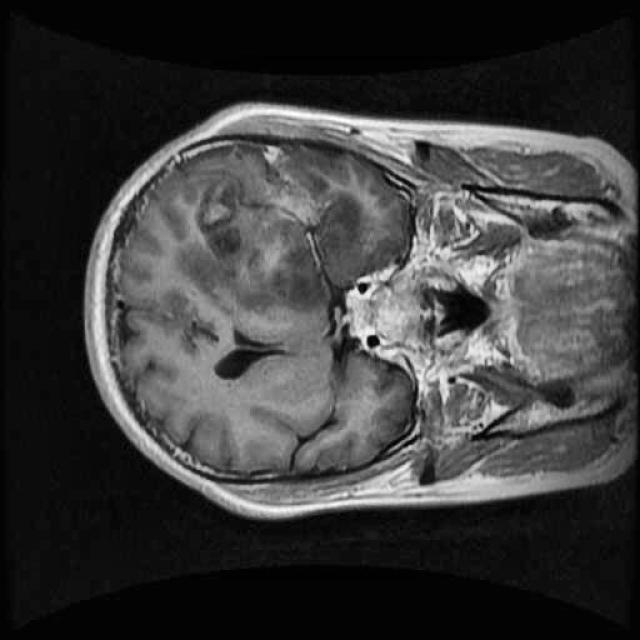Tumor: (180, 148, 404, 338)
